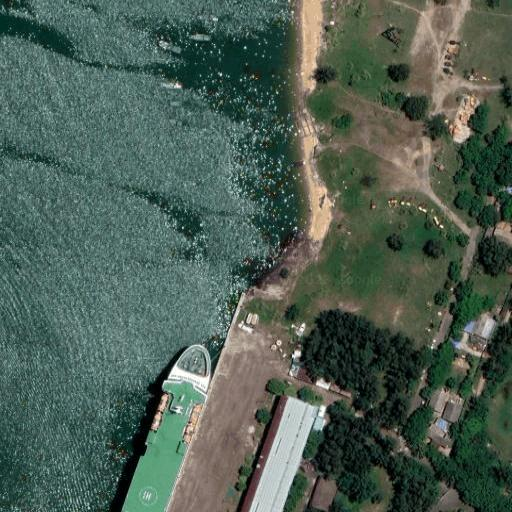building: (241, 394, 318, 512), (310, 474, 340, 512), (471, 315, 497, 339), (427, 424, 453, 448), (441, 402, 465, 423), (428, 388, 447, 412), (460, 310, 478, 332), (295, 367, 318, 384), (314, 374, 332, 389), (310, 415, 325, 433), (484, 224, 497, 242), (292, 353, 303, 367), (448, 337, 462, 348), (288, 364, 299, 377), (432, 440, 443, 451), (501, 182, 512, 193), (315, 405, 325, 417), (329, 384, 342, 393), (340, 388, 352, 397), (436, 418, 446, 428), (486, 196, 494, 206)
